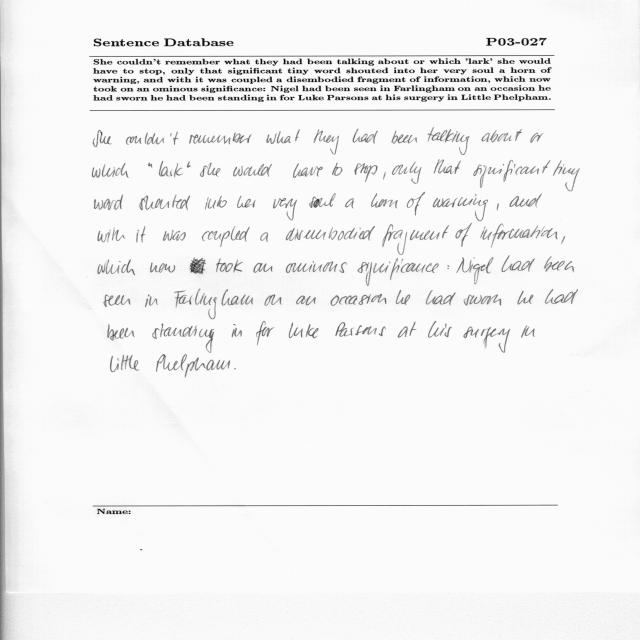word: (174, 289, 253, 319), (358, 258, 439, 286), (474, 160, 551, 188), (383, 224, 450, 255), (480, 223, 558, 248), (152, 323, 214, 353), (156, 355, 230, 378), (433, 195, 488, 222), (286, 226, 375, 241), (464, 327, 510, 353), (293, 149, 333, 178), (428, 127, 469, 155), (457, 257, 494, 285), (202, 226, 250, 247), (553, 160, 580, 191), (139, 195, 190, 211), (335, 322, 386, 337), (189, 133, 252, 145), (189, 257, 233, 274), (126, 131, 179, 145), (286, 261, 347, 273), (331, 294, 387, 306), (392, 161, 421, 184), (314, 129, 339, 155), (98, 259, 135, 275), (93, 163, 129, 178), (273, 198, 297, 220), (502, 256, 535, 272), (482, 129, 522, 142), (159, 161, 191, 177), (266, 130, 300, 145), (233, 164, 272, 177), (545, 289, 578, 304), (111, 355, 140, 372), (544, 257, 574, 273), (426, 290, 456, 306), (289, 323, 319, 339), (256, 321, 275, 346), (509, 194, 542, 208), (108, 324, 135, 341), (354, 163, 378, 182), (94, 195, 123, 210), (407, 192, 425, 216), (455, 223, 472, 247), (428, 321, 452, 338), (464, 295, 501, 306), (434, 159, 461, 174), (309, 193, 336, 208), (371, 193, 398, 208), (98, 228, 125, 243), (353, 129, 378, 144), (104, 295, 131, 308), (392, 131, 418, 144), (93, 130, 112, 147), (205, 196, 227, 210), (398, 322, 417, 338), (163, 230, 186, 241), (150, 263, 175, 273), (237, 195, 256, 208), (264, 294, 282, 306), (396, 290, 410, 305), (518, 291, 534, 304), (296, 296, 316, 306), (254, 263, 273, 273), (208, 163, 221, 177), (521, 325, 535, 338), (145, 295, 158, 308), (332, 162, 343, 176), (136, 226, 145, 243), (231, 324, 242, 337), (531, 133, 544, 143), (233, 260, 243, 273), (345, 198, 354, 209), (200, 166, 208, 177), (260, 232, 268, 242), (561, 236, 565, 244), (383, 172, 386, 180), (148, 163, 152, 168), (497, 203, 499, 211), (448, 265, 450, 269), (234, 368, 236, 370)
